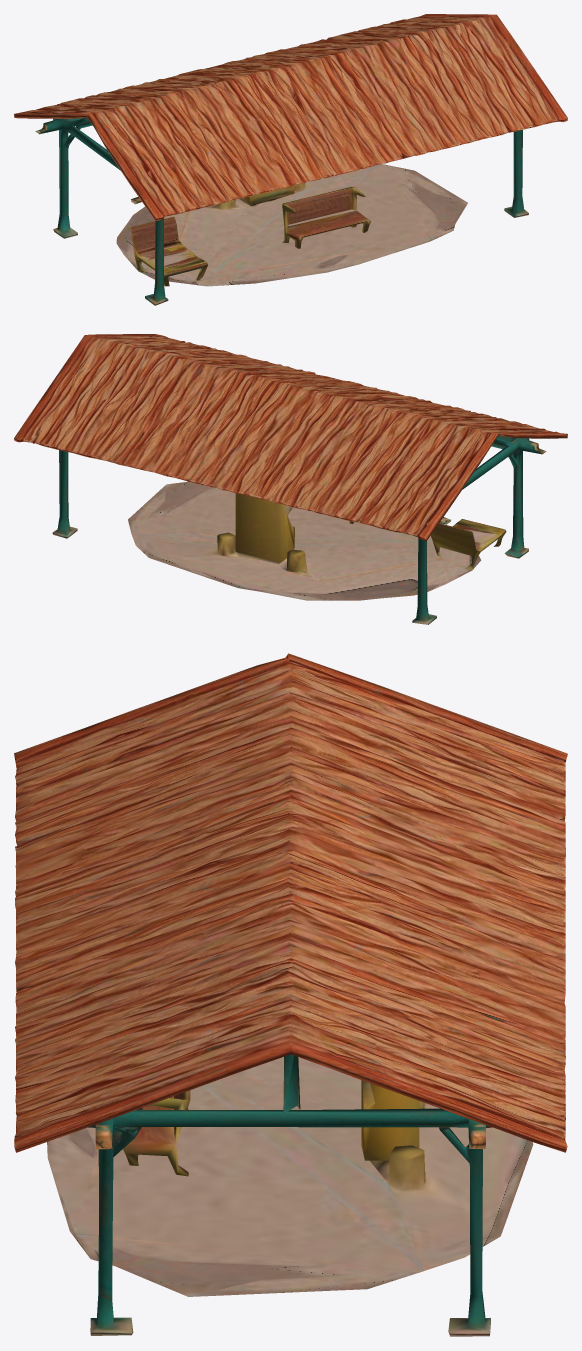
File: motor_park.glb
3 views of the same model, one above another, from view 1: azimuth 30°, elevation 25°; view 2: azimuth 150°, elevation 25°; view 3: azimuth 270°, elevation 25° (orthographic). The views are drawn at different scales.
Bounding box in the file's own units: 1.9 × 0.6995 × 1.13.
Materials: 1 (1 with a texture image).
